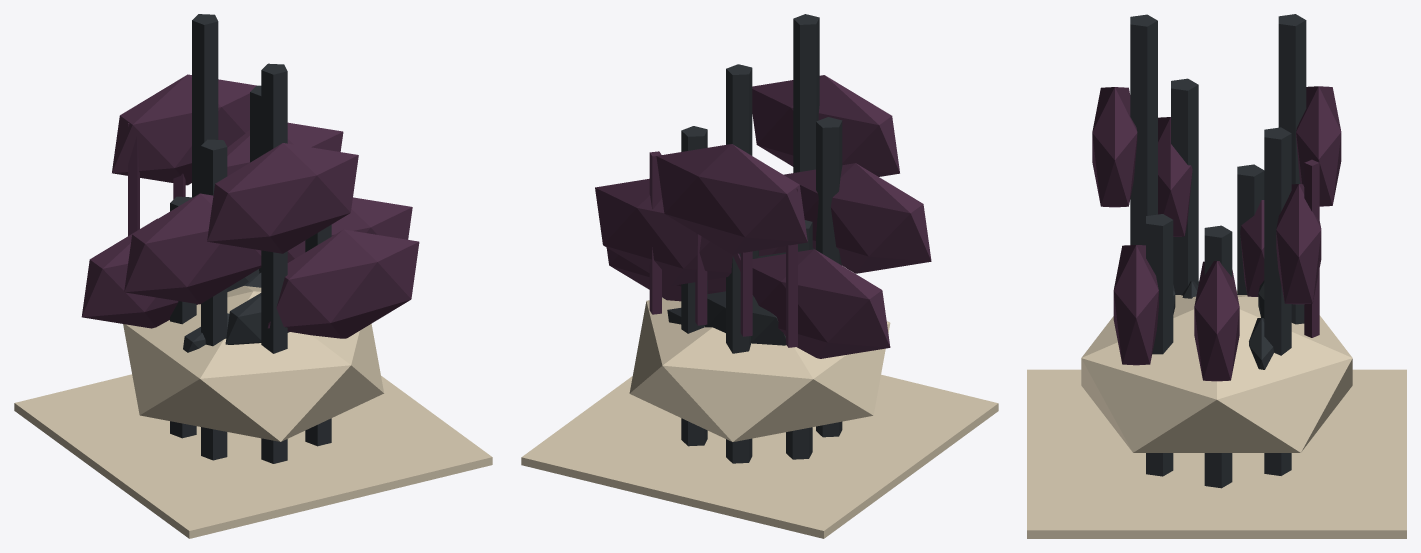
Rendered from grabbing_vine.glb.
The picture shows the model from 3 angles, left to right: view 1: azimuth 30°, elevation 25°; view 2: azimuth 150°, elevation 25°; view 3: azimuth 270°, elevation 25°; orthographic projection. The views are drawn at different scales.
Parts seen in each view (by area): view 1: grabbing_vine; view 2: grabbing_vine; view 3: grabbing_vine.
Part boxes in pixels (x1,y1,x2,y2): grabbing_vine: (14,14,492,538); grabbing_vine: (521,14,998,538); grabbing_vine: (1027,14,1406,538).
Size of what is drawn, in the model's own units: 2.05 by 2.51 by 2.
Materials: 1 (1 with a texture image).
